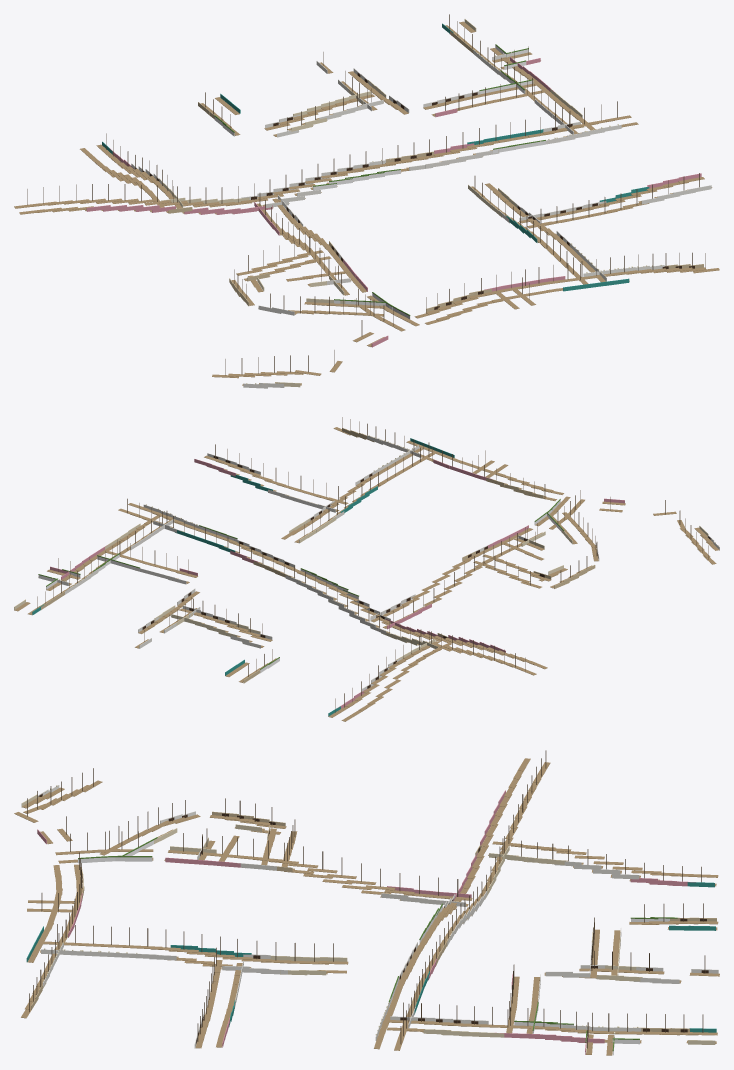
The model's file is noord_res_-27_-22.glb.
3 views of the same model, one above another, from view 1: azimuth 30°, elevation 25°; view 2: azimuth 150°, elevation 25°; view 3: azimuth 270°, elevation 25° (orthographic). The views are drawn at different scales.
Visible parts, largest first — view 1: noord_res_-27_-22_lod0; view 2: noord_res_-27_-22_lod0; view 3: noord_res_-27_-22_lod0.
Boxes of the visible parts, x1,y1,x2,y2 form: noord_res_-27_-22_lod0: (14,14,719,388); noord_res_-27_-22_lod0: (14,417,719,721); noord_res_-27_-22_lod0: (14,750,719,1055).
Size of what is drawn, in the model's own units: 285 by 27.93 by 284.
